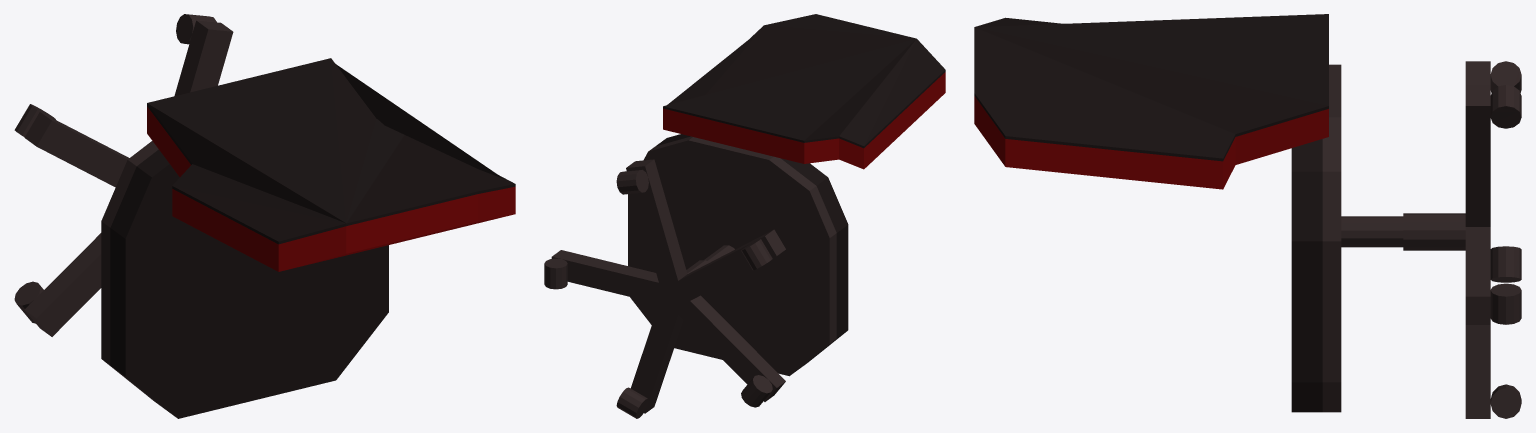
Rendered from o1__room83b1-village-chair-0-bodyset2.glb.
The picture shows the model from 3 angles, left to right: view 1: azimuth 30°, elevation 25°; view 2: azimuth 150°, elevation 25°; view 3: azimuth 270°, elevation 25°; orthographic projection. The views are drawn at different scales.
Size of the model in its own units: 0.5574 by 0.5981 by 0.88.
